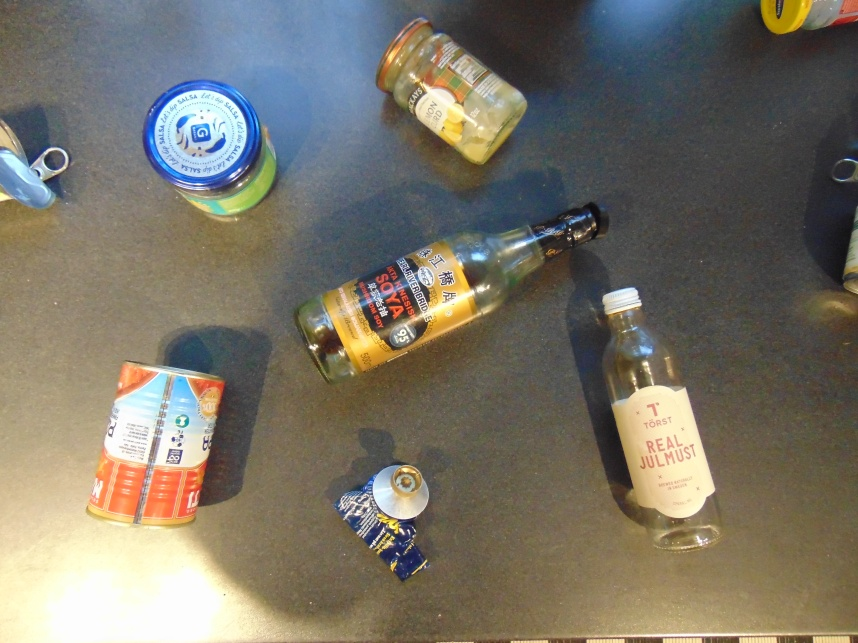glass_bottle: (293, 200, 607, 383), (601, 283, 726, 549), (373, 14, 528, 161), (147, 80, 277, 221), (758, 1, 858, 36)
metal: (338, 459, 435, 578), (1, 147, 61, 215), (827, 148, 858, 184)
metal_can: (85, 359, 225, 534), (1, 109, 36, 159), (839, 211, 858, 298)
